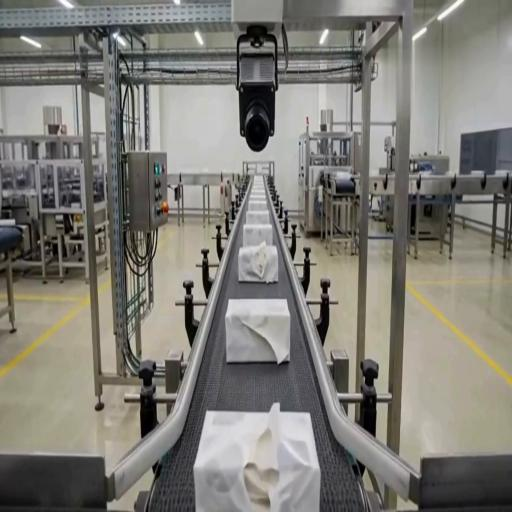defective: (194, 402, 319, 510), (224, 298, 291, 364), (237, 242, 280, 284)
good: (244, 223, 272, 246), (245, 209, 270, 224), (248, 182, 268, 198)
